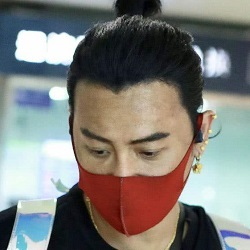mask: (63, 119, 204, 238)
